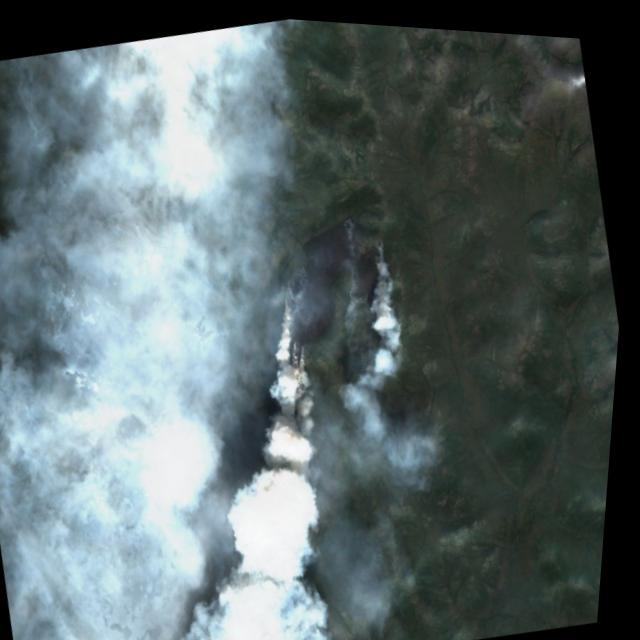fire: (275, 284, 322, 362), (370, 226, 398, 273), (341, 203, 363, 235)
